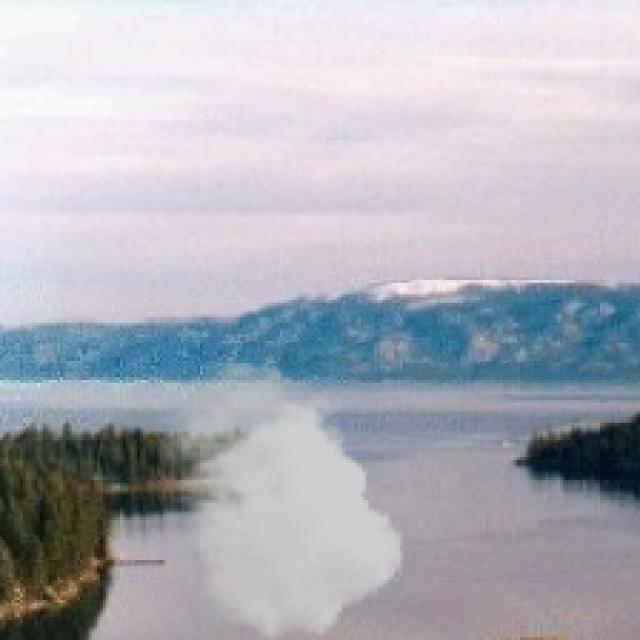smoke: (157, 363, 406, 637)
